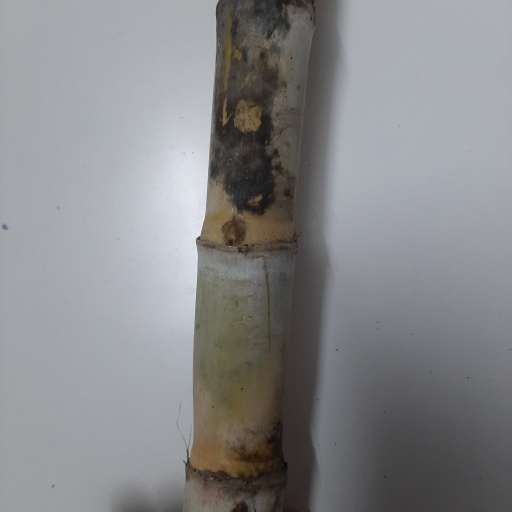Bud: (222, 221, 244, 246)
